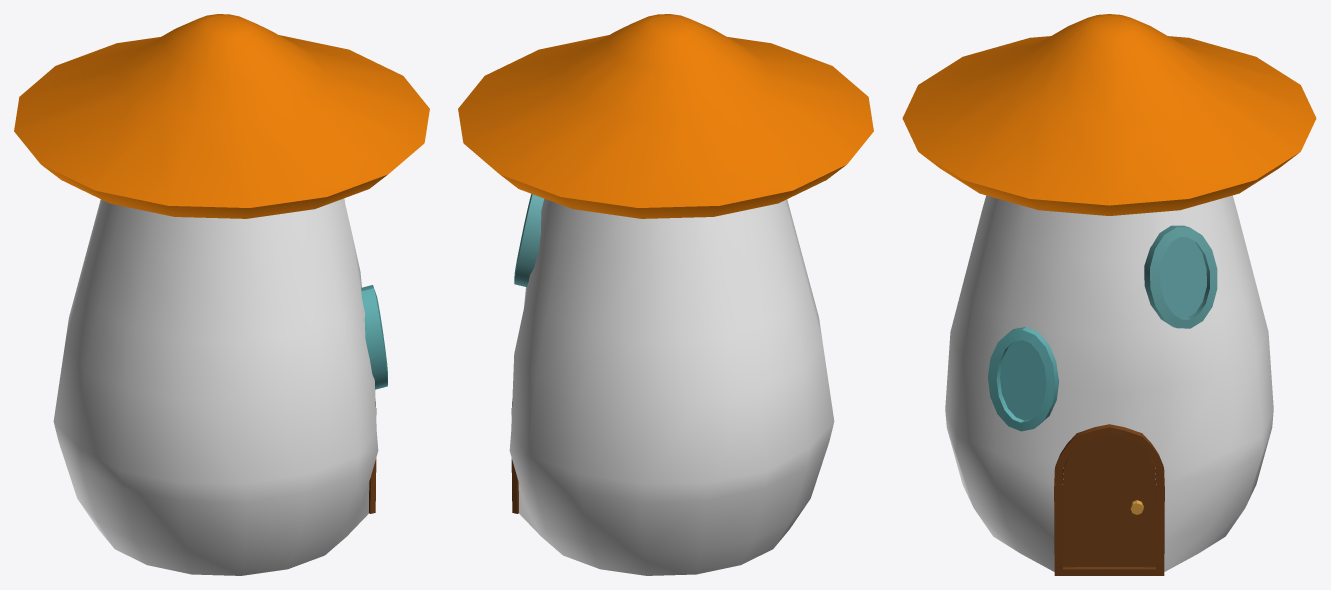
Rendered from Mushroom_House_2.2.fbx.
3 renders of one model, left to right at view 1: azimuth 30°, elevation 25°; view 2: azimuth 150°, elevation 25°; view 3: azimuth 270°, elevation 25°, orthographic.
Parts seen in each view (by area): view 1: Base, Cap, Window 1; view 2: Base, Cap, Window 2; view 3: Base, Cap, Door, Window 2, Window 1.
Boxes of the visible parts, x1,y1,x2,y2 form: Base: (53,198,378,575); Cap: (14,14,429,218); Window 1: (361,285,387,389); Base: (509,198,834,575); Cap: (458,14,873,218); Window 2: (514,194,544,287); Base: (945,195,1273,571); Cap: (902,14,1316,215); Door: (1054,424,1164,575); Window 2: (1144,225,1217,328); Window 1: (988,327,1059,431).
Bounding box in the file's own units: 1124 × 1477 × 1120.
